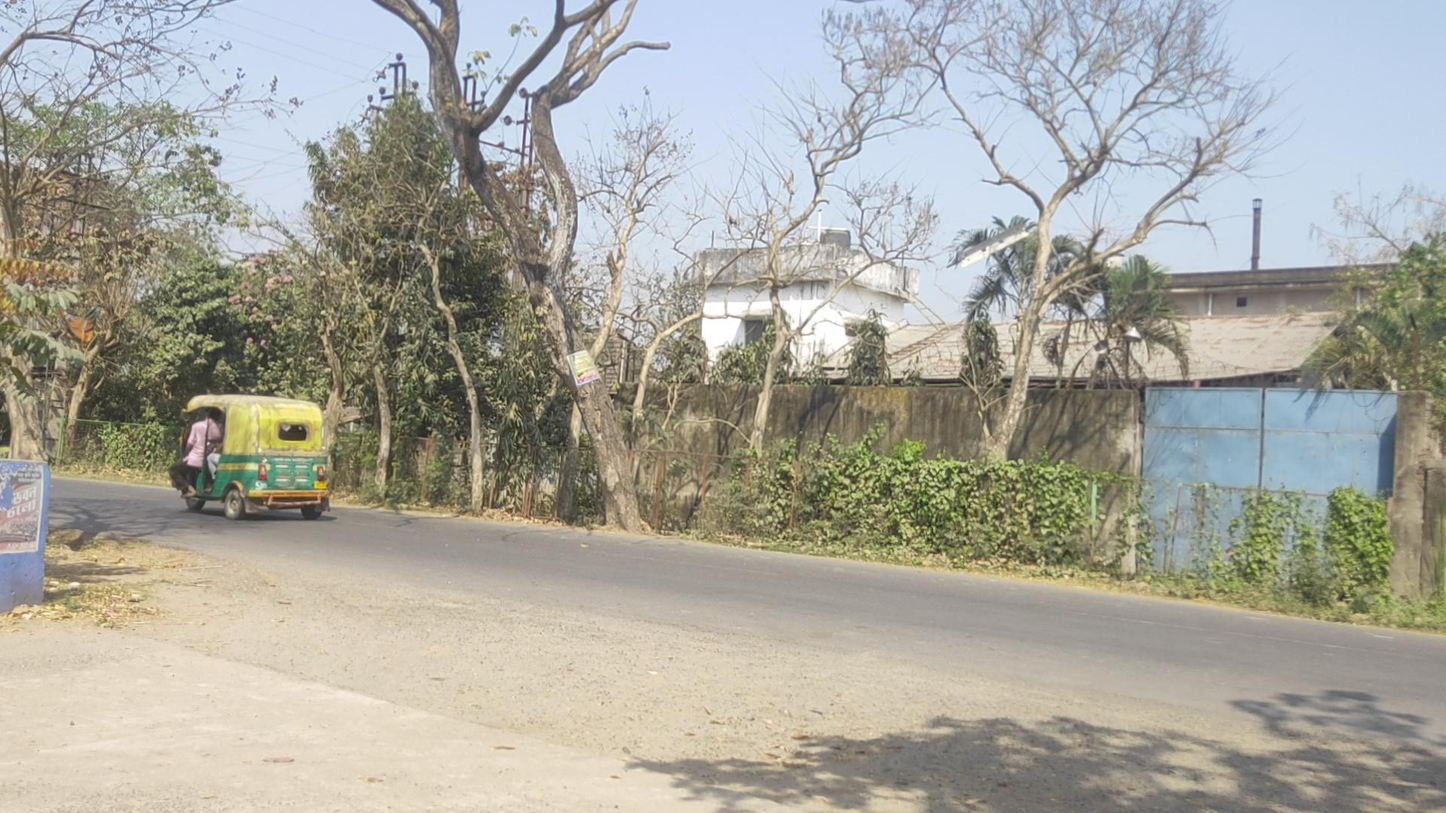Auto: (169, 394, 331, 521)
